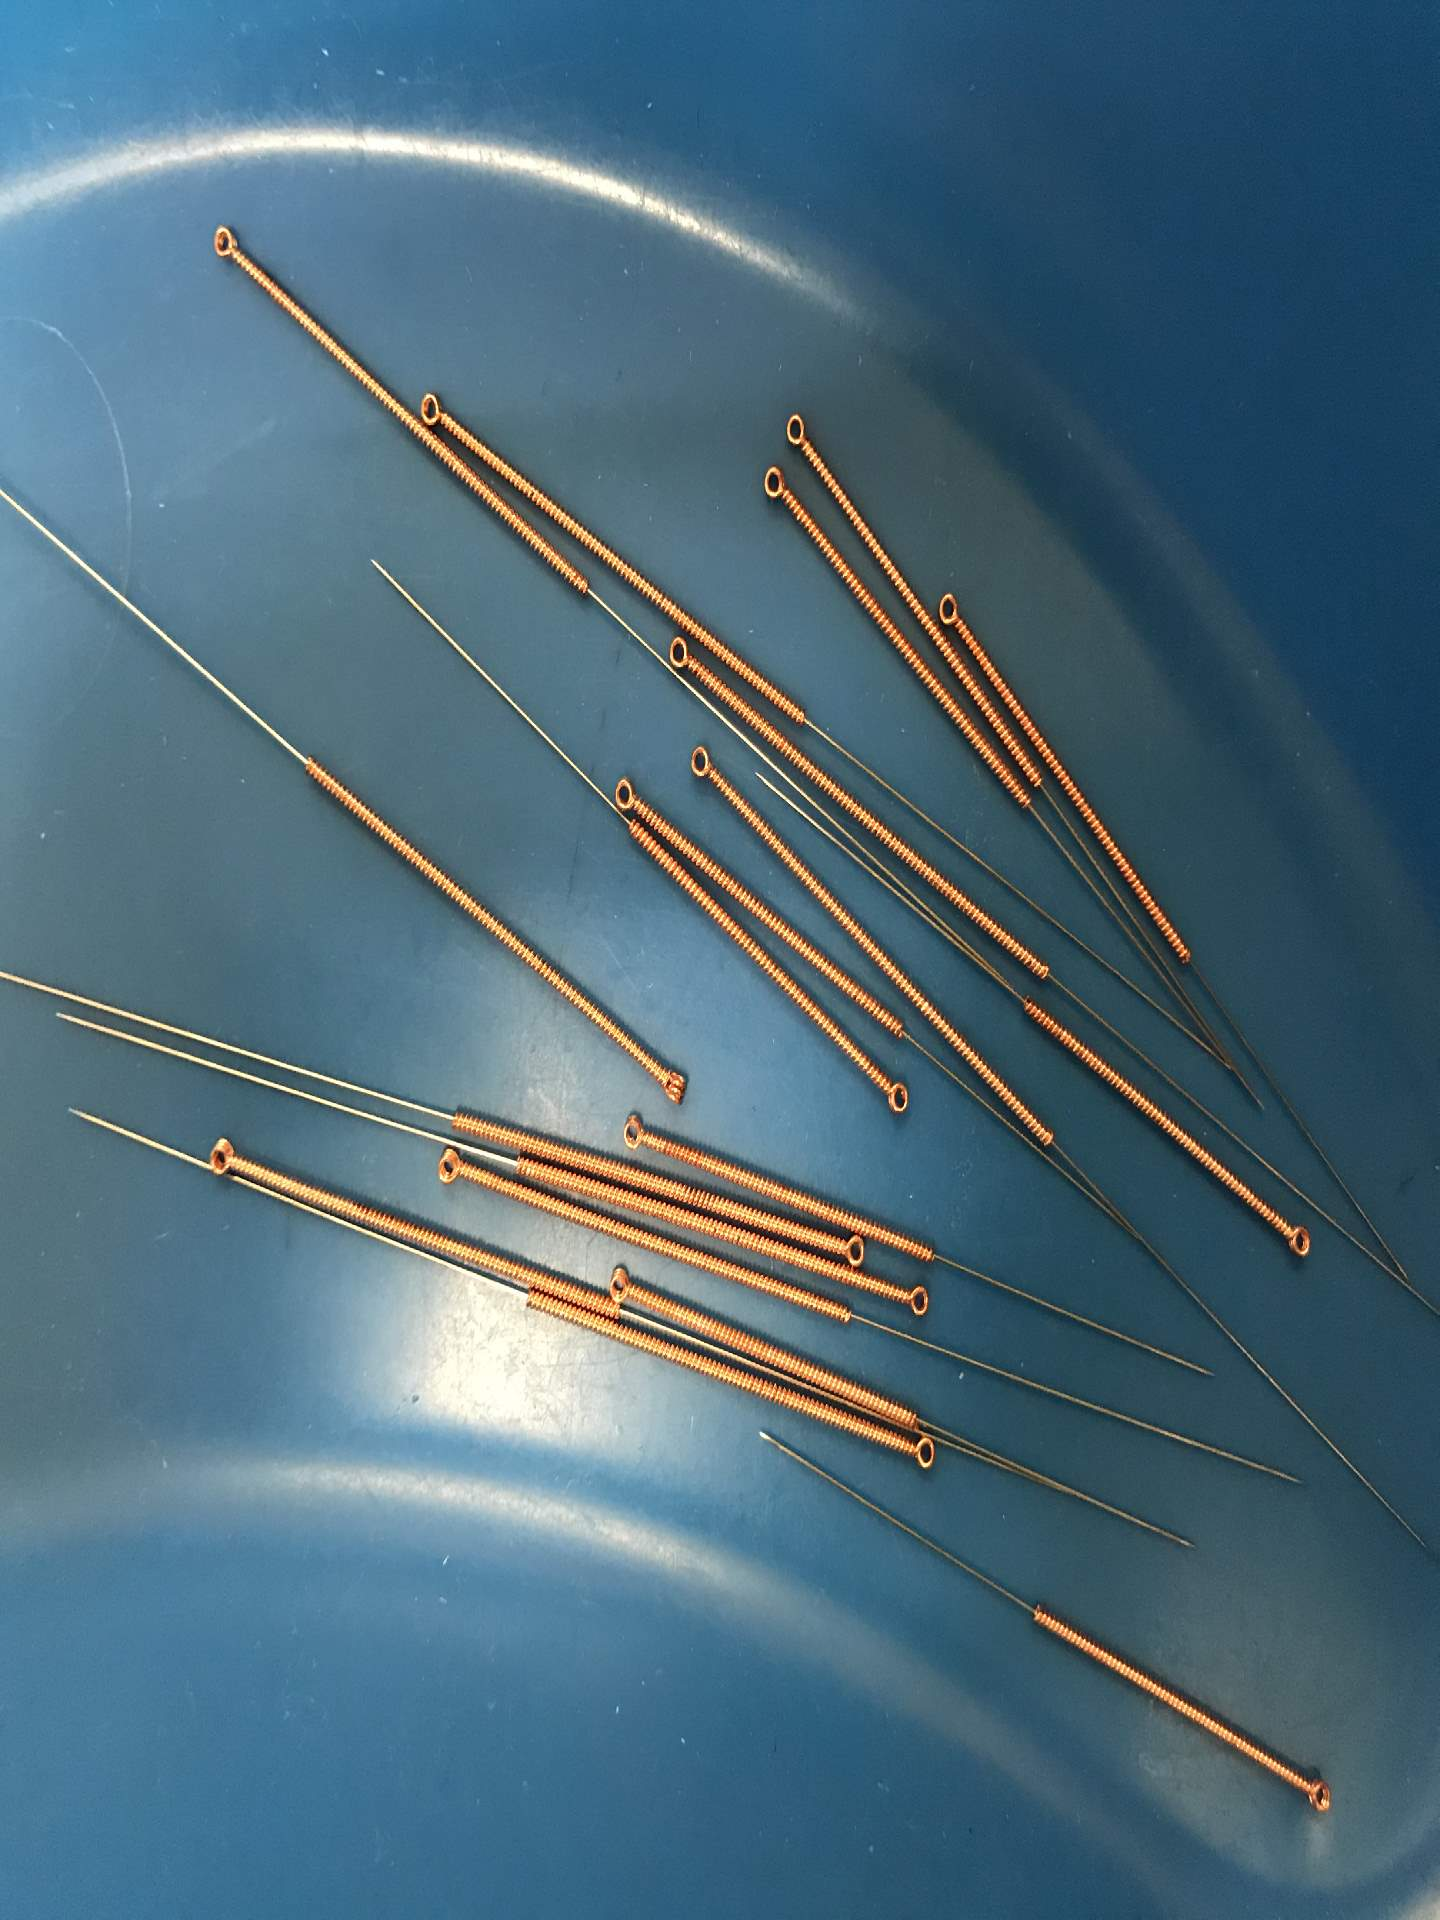needle: (647, 1058, 694, 1113), (1293, 1766, 1339, 1822), (874, 1070, 918, 1125), (678, 736, 722, 791), (430, 1141, 475, 1191), (200, 1134, 247, 1181), (204, 218, 247, 266), (1277, 1215, 1317, 1265), (756, 460, 797, 508), (614, 1107, 653, 1157), (774, 404, 812, 455), (892, 1281, 938, 1323), (659, 633, 700, 679), (416, 386, 455, 431), (905, 1432, 942, 1476), (832, 1229, 870, 1271), (605, 773, 641, 816), (932, 587, 965, 632), (604, 1258, 635, 1305)
